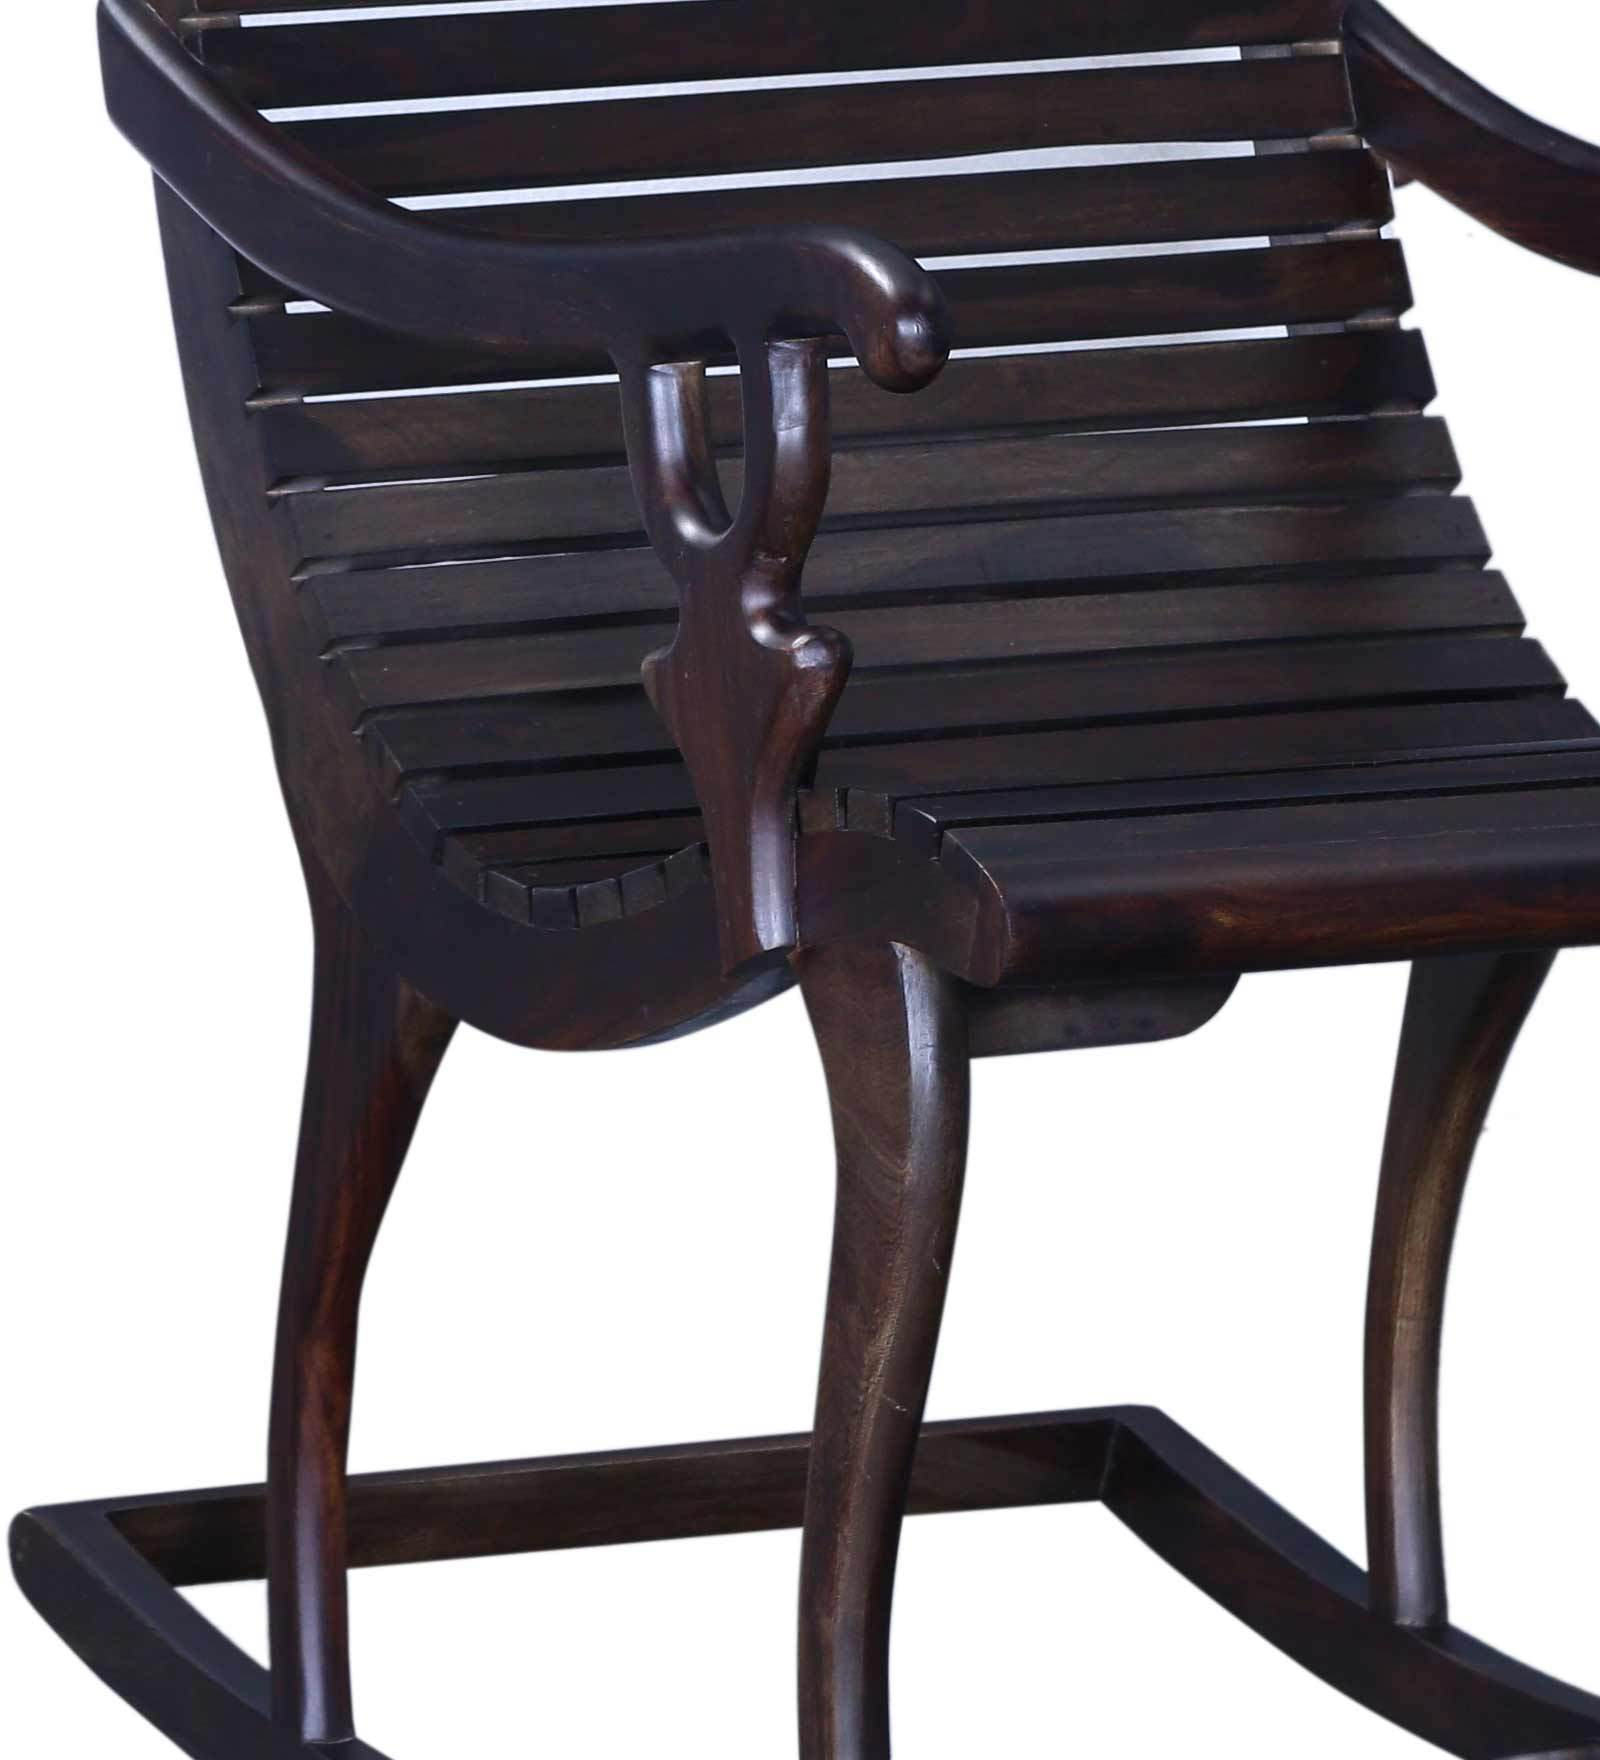Acklom Rocking Chair in Warm Chestnut Finish by Amberville: (80, 17, 1582, 1760)
